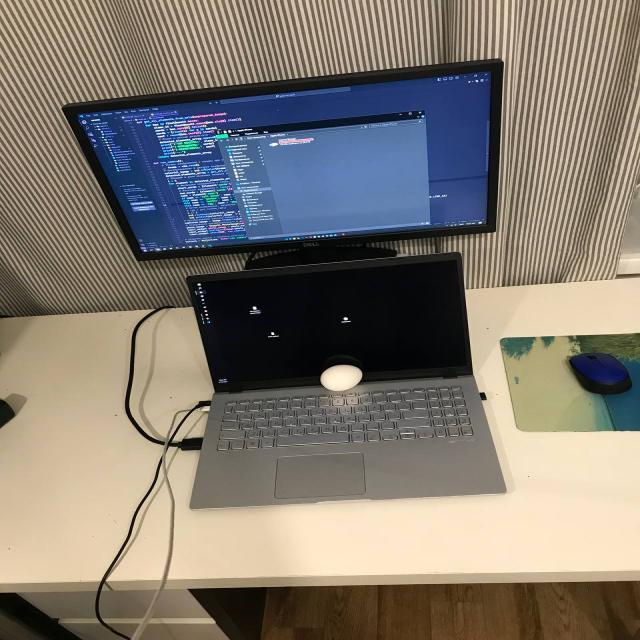egg: (321, 364, 363, 392)
